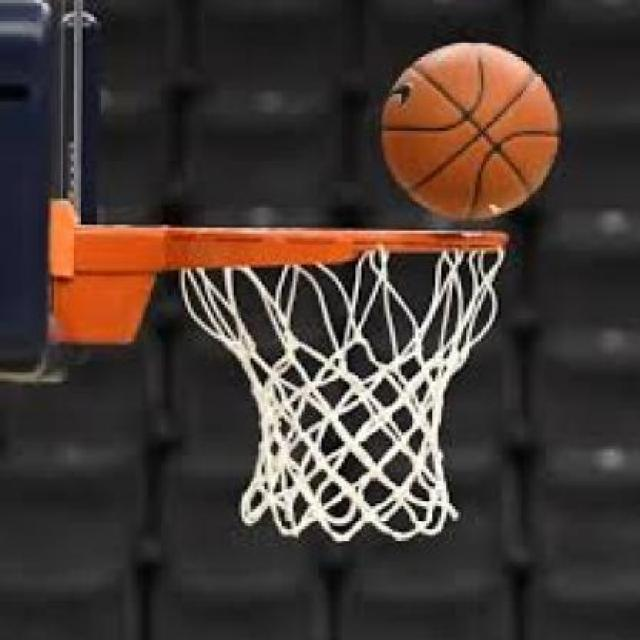basketball: (385, 42, 559, 218)
rim: (170, 228, 510, 544)
